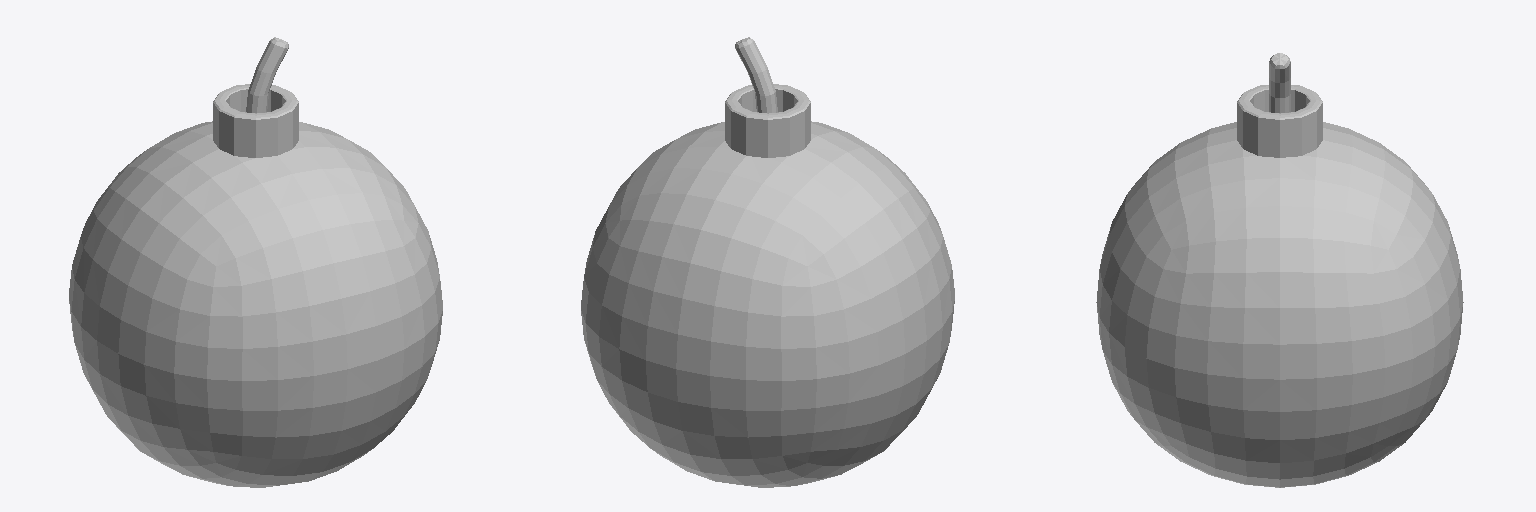
3 renders of one model, left to right at view 1: azimuth 30°, elevation 25°; view 2: azimuth 150°, elevation 25°; view 3: azimuth 270°, elevation 25°, orthographic.
Visible parts, largest first — view 1: Bomb_Cube.001; view 2: Bomb_Cube.001; view 3: Bomb_Cube.001.
Boxes of the visible parts, <box> form: Bomb_Cube.001: <box>69,37,442,487</box>; Bomb_Cube.001: <box>581,37,954,487</box>; Bomb_Cube.001: <box>1096,53,1463,487</box>.
Bounding box in the file's own units: 1.07 × 1.36 × 1.07.